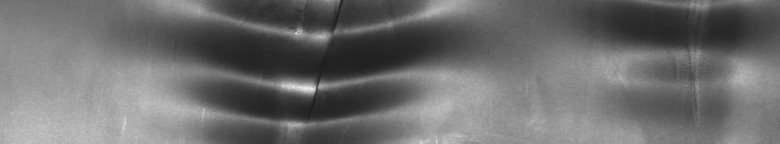ke: (208, 4, 440, 136)
